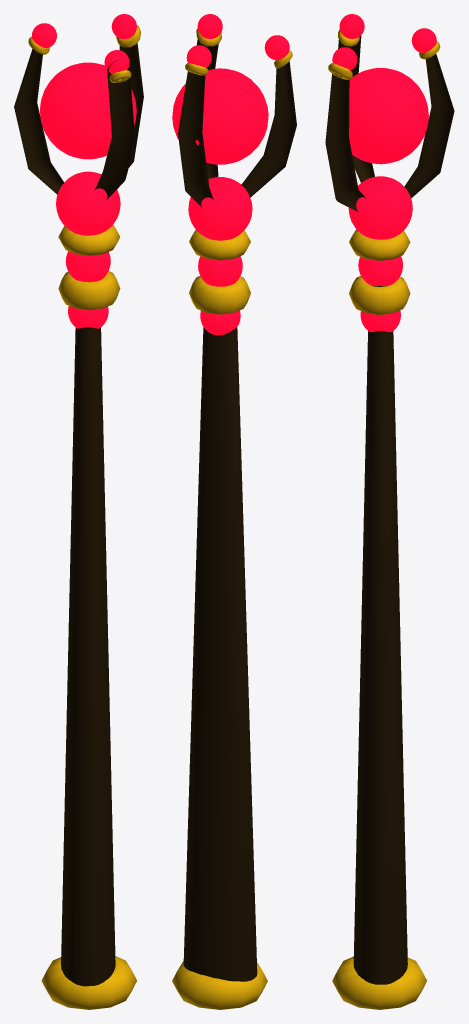
Rendered from RedWand.fbx.
The picture shows the model from 3 angles, left to right: view 1: azimuth 90°, elevation 25°; view 2: azimuth 150°, elevation 25°; view 3: azimuth 270°, elevation 25°; orthographic projection.
Visible parts, largest first — view 1: RedWand; view 2: RedWand; view 3: RedWand.
Boxes of the visible parts, x1=… form: RedWand: x1=14, y1=14, x2=143, y2=1009; RedWand: x1=172, y1=14, x2=296, y2=1009; RedWand: x1=325, y1=14, x2=454, y2=1009.
Size of the model in its own units: 16.73 by 142 by 17.14.
